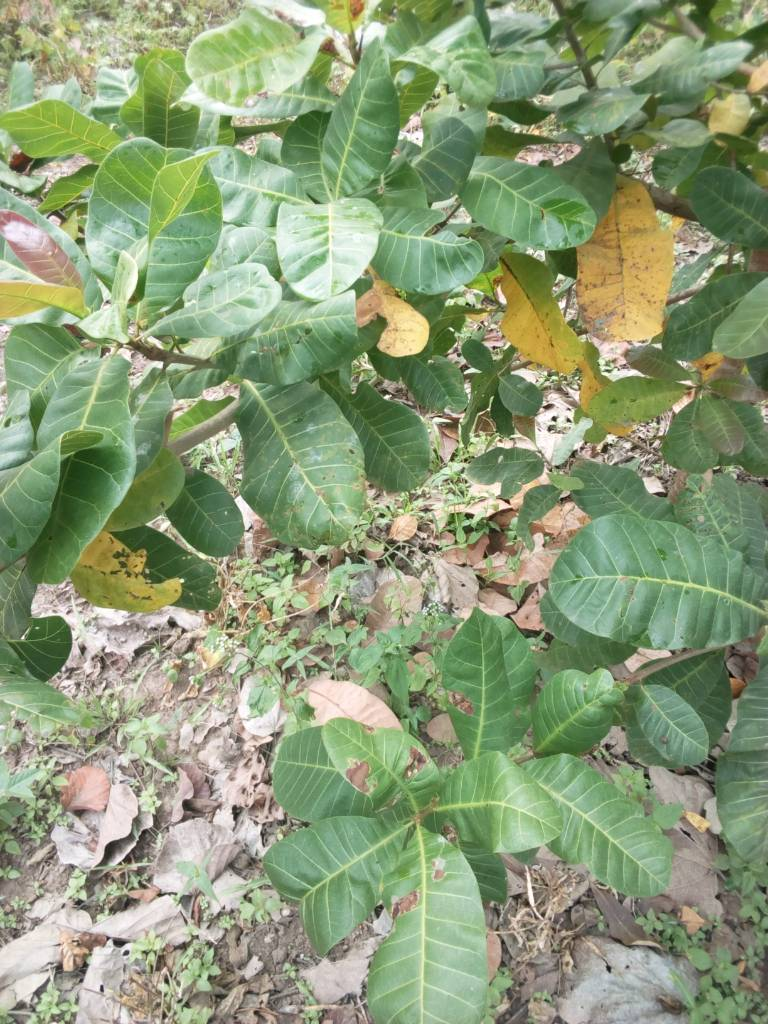Anthracnose: (583, 171, 669, 344), (79, 528, 186, 617)
